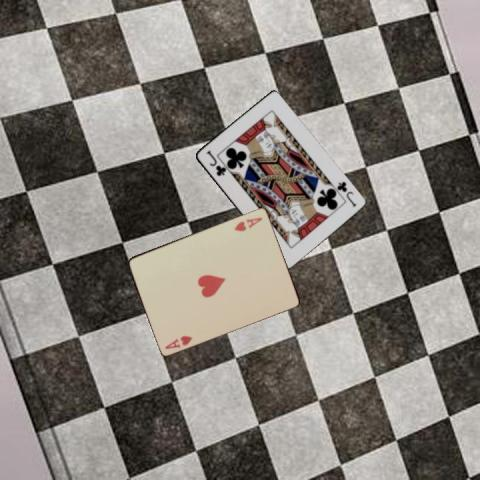Ah: (231, 214, 264, 233), (162, 332, 194, 350)
Jc: (203, 148, 227, 178), (334, 178, 358, 208)
